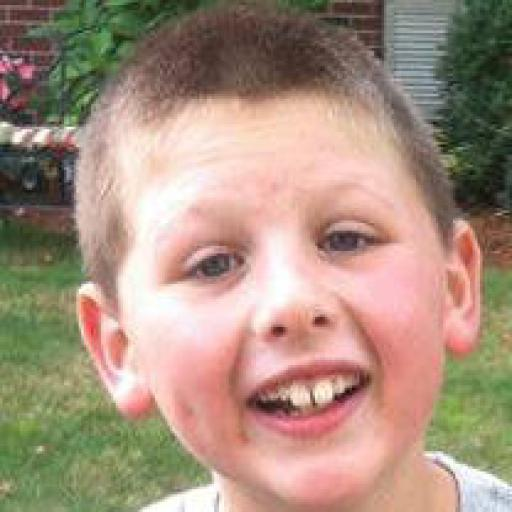Autism: (91, 62, 474, 474)
